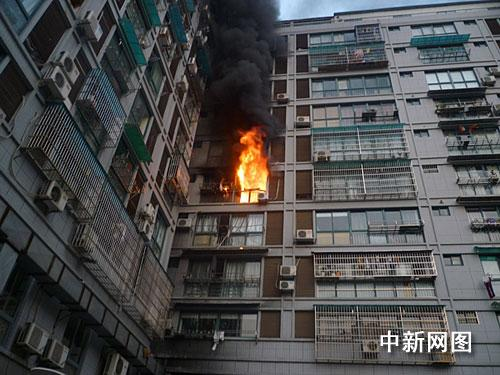fire: (233, 119, 273, 195)
